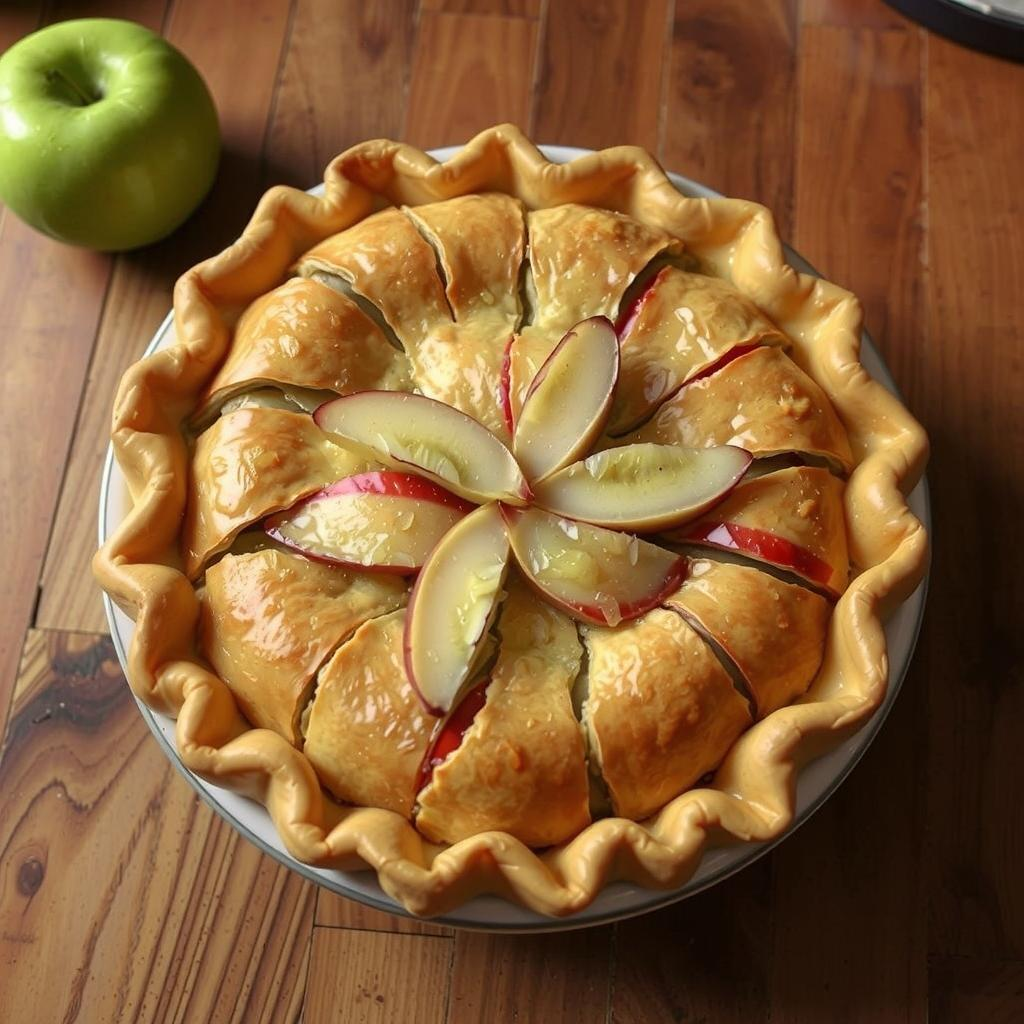pie: (83, 114, 947, 927)
